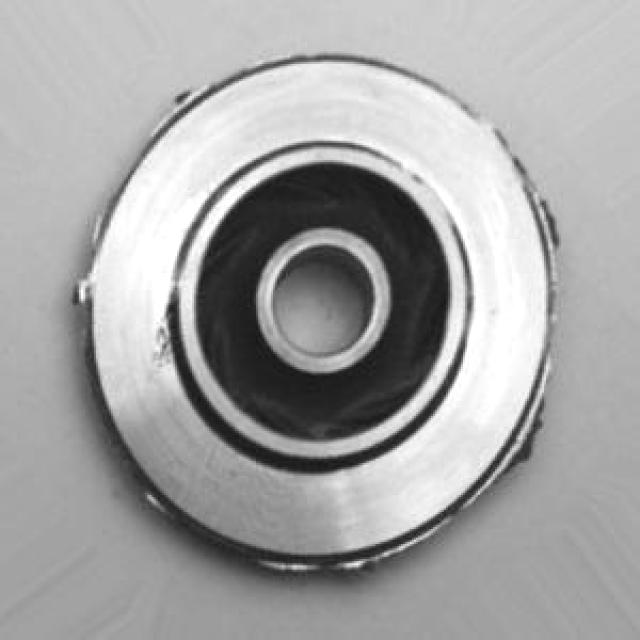Defect: (65, 277, 104, 307)
